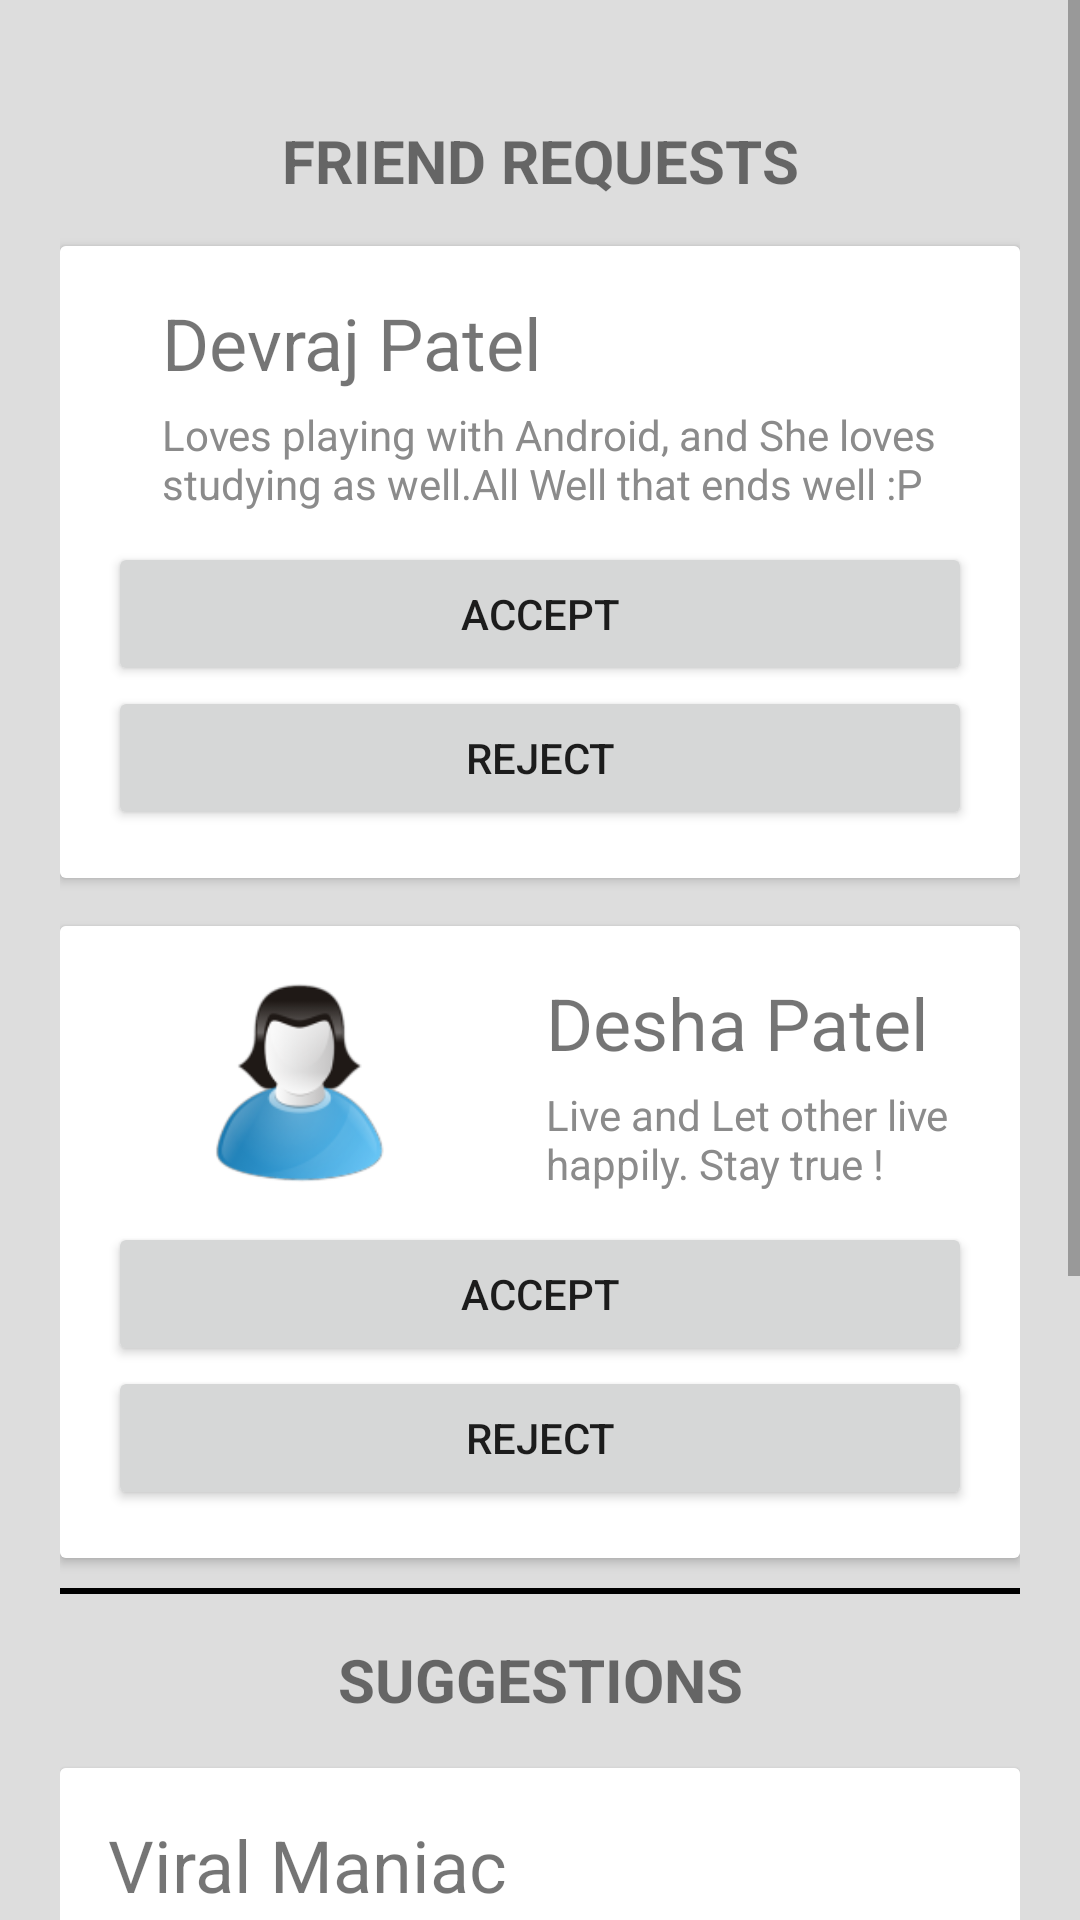

Icon bounding boxes for this 1080 x 1920 phone screenshot, format (x1, y1, x2, y2):
lady: (216, 984, 383, 1181)
